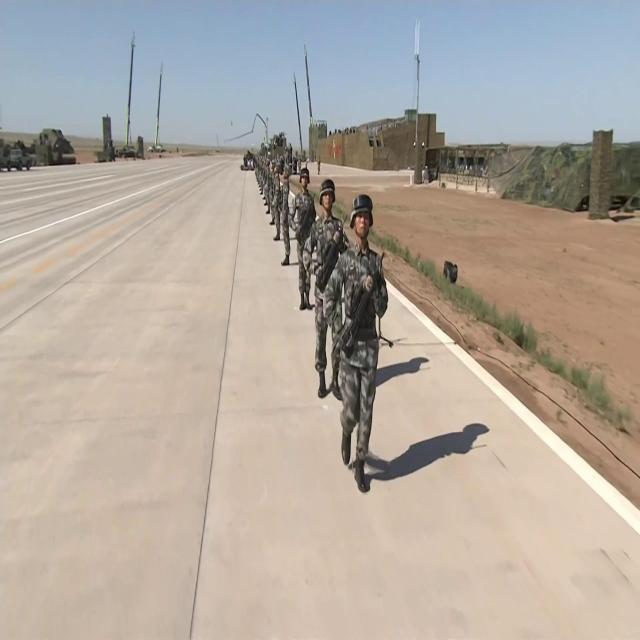Soldier: (341, 191, 386, 503), (316, 170, 350, 395), (293, 162, 317, 306), (280, 156, 294, 270)
